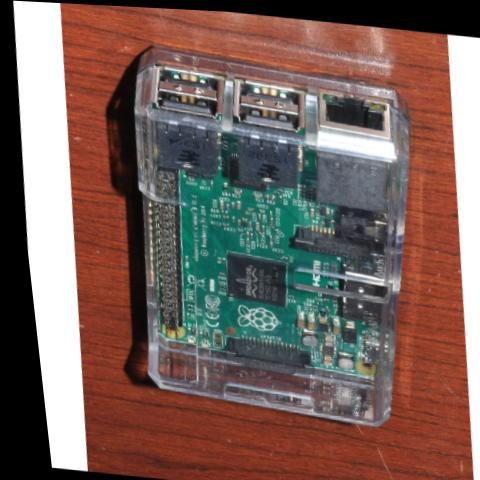Raspberry-Pi-2-Model-B: (72, 23, 443, 440)
